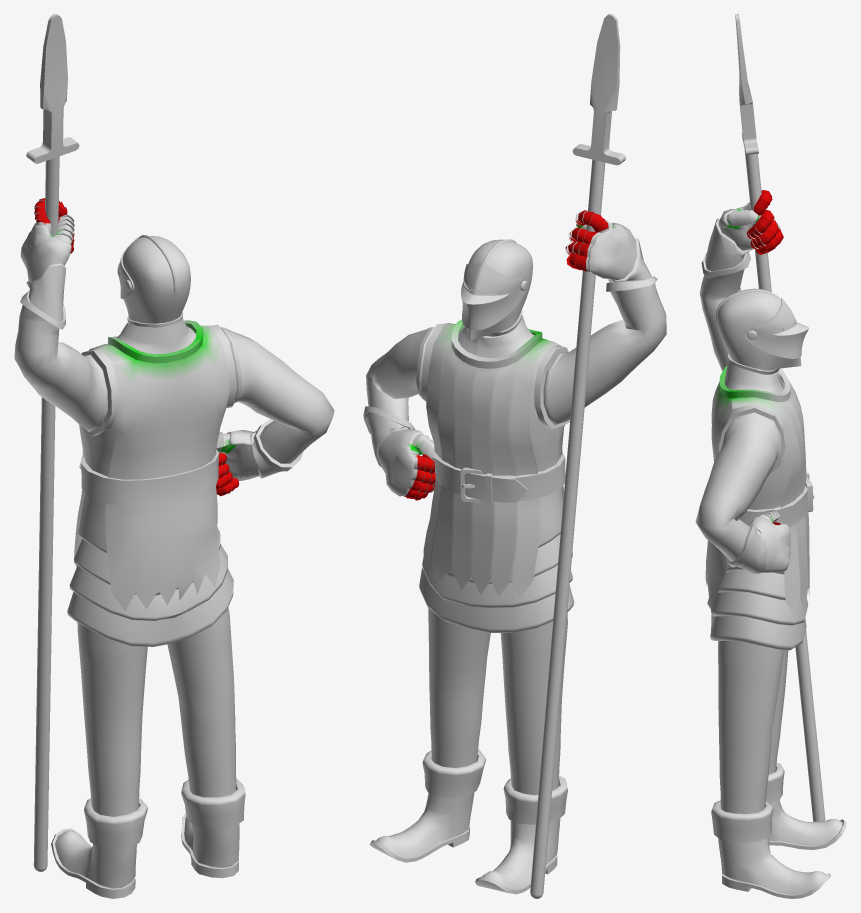
The model's file is 3Dmodel_Prop_Decoration_Statue_Knight.fbx.
3 renders of one model, left to right at view 1: azimuth 30°, elevation 25°; view 2: azimuth 150°, elevation 25°; view 3: azimuth 270°, elevation 25°, orthographic. The views are drawn at different scales.
Visible parts, largest first — view 1: Prop_Statue_Knight; view 2: Prop_Statue_Knight; view 3: Prop_Statue_Knight.
Part boxes in pixels (box(x1,y1,x2,y2)): Prop_Statue_Knight: box(14, 14, 334, 898); Prop_Statue_Knight: box(363, 14, 666, 898); Prop_Statue_Knight: box(695, 14, 846, 898).
Size of the model in its own units: 0.8998 by 0.4274 by 2.49.
